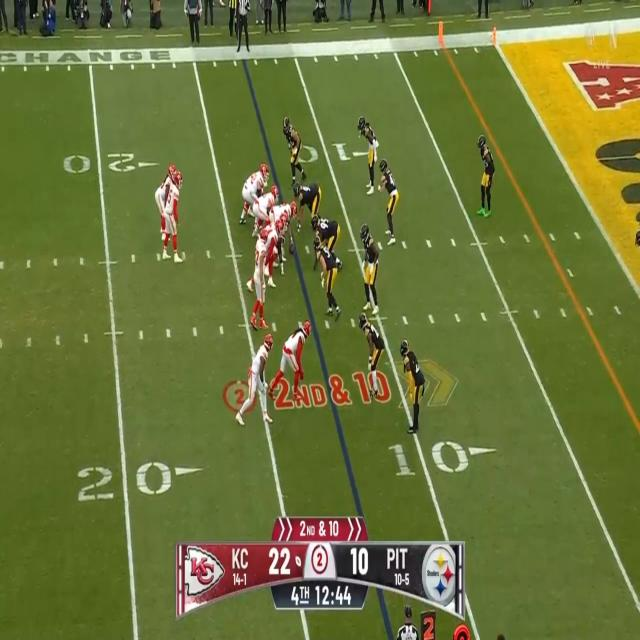Ball: (288, 238, 297, 257)
